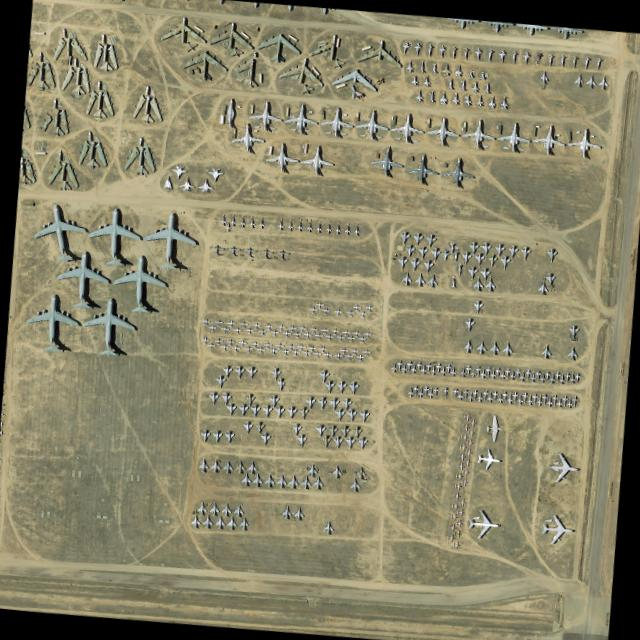plane: (26, 198, 94, 267), (80, 293, 138, 357), (142, 209, 199, 271), (54, 247, 110, 310), (86, 205, 142, 266), (112, 252, 167, 313), (25, 291, 80, 351), (326, 64, 385, 101), (274, 53, 325, 94), (206, 18, 260, 55), (180, 45, 230, 84), (119, 132, 161, 178), (157, 12, 209, 49), (75, 128, 114, 173), (253, 30, 303, 65), (354, 35, 402, 69), (130, 82, 165, 127), (58, 55, 93, 100), (228, 53, 270, 90), (36, 95, 73, 137), (52, 25, 91, 64), (83, 79, 119, 120), (45, 149, 80, 191), (87, 30, 122, 72), (27, 49, 59, 91), (530, 121, 567, 156), (460, 116, 496, 151), (404, 150, 440, 185), (369, 143, 405, 178), (354, 107, 391, 141), (319, 104, 355, 138), (566, 125, 602, 159), (496, 119, 532, 153), (389, 110, 425, 144), (540, 512, 575, 546), (264, 141, 299, 175), (440, 155, 475, 189), (229, 121, 265, 154), (425, 114, 461, 147), (248, 98, 283, 131), (467, 507, 502, 540), (299, 143, 335, 175), (547, 451, 581, 484), (284, 102, 319, 134), (217, 94, 239, 128), (475, 446, 503, 471), (486, 413, 505, 441), (197, 176, 214, 192), (170, 164, 187, 180), (178, 175, 195, 190), (208, 166, 223, 182), (208, 242, 225, 255), (475, 337, 487, 354), (424, 232, 437, 247), (484, 275, 496, 291), (422, 257, 434, 273), (196, 500, 208, 516), (585, 72, 597, 88), (460, 249, 472, 265), (429, 245, 441, 261), (507, 243, 519, 259), (540, 343, 552, 358), (466, 264, 478, 279), (426, 272, 438, 287), (414, 271, 426, 286), (242, 245, 257, 257), (493, 242, 505, 257), (537, 279, 548, 295), (502, 340, 513, 356), (489, 339, 500, 355), (409, 255, 420, 271), (233, 501, 244, 517), (210, 457, 221, 473), (276, 472, 287, 488), (300, 473, 311, 489), (162, 173, 173, 189), (499, 253, 510, 269), (520, 244, 531, 260), (226, 244, 240, 256), (222, 363, 233, 378), (567, 345, 578, 360), (568, 323, 579, 338), (464, 316, 475, 331), (472, 298, 483, 313), (401, 270, 412, 285), (397, 254, 408, 269), (323, 519, 334, 534), (293, 505, 304, 520), (281, 504, 292, 519), (226, 514, 237, 529), (221, 501, 232, 516), (215, 514, 226, 529), (209, 501, 220, 516), (202, 513, 213, 528), (190, 513, 201, 528), (198, 457, 209, 472), (234, 458, 245, 473), (240, 471, 251, 486), (200, 427, 211, 442), (220, 390, 231, 405), (252, 471, 263, 486), (264, 472, 275, 487), (288, 473, 299, 488), (307, 462, 318, 477), (313, 474, 324, 489), (349, 476, 360, 491), (355, 464, 366, 479), (296, 432, 307, 447), (258, 247, 273, 258), (598, 74, 609, 89), (474, 250, 485, 265), (468, 240, 479, 255), (399, 229, 410, 244), (546, 246, 557, 261), (260, 430, 270, 446), (416, 58, 426, 74), (533, 49, 543, 65), (416, 245, 428, 258), (270, 366, 281, 380), (246, 364, 257, 378), (234, 364, 245, 378), (215, 373, 226, 387), (473, 276, 484, 290), (336, 379, 347, 393), (348, 380, 359, 394), (208, 390, 219, 404), (244, 392, 255, 406), (286, 404, 297, 418), (305, 394, 316, 408), (341, 396, 352, 410), (351, 424, 362, 438), (344, 434, 355, 448), (339, 424, 350, 438), (327, 423, 338, 437), (275, 248, 289, 259), (486, 94, 497, 108), (441, 61, 452, 75), (412, 231, 423, 245), (486, 252, 497, 266), (324, 378, 334, 393), (545, 271, 555, 286), (480, 266, 490, 281), (223, 458, 233, 473), (247, 459, 257, 474), (243, 419, 253, 434), (332, 463, 342, 478), (315, 422, 325, 437), (573, 71, 583, 86), (483, 46, 493, 61), (425, 40, 434, 56), (225, 401, 236, 414), (346, 407, 357, 420), (332, 434, 343, 447), (319, 368, 329, 382), (269, 393, 279, 407), (212, 428, 222, 442), (250, 402, 260, 416), (262, 403, 272, 417), (274, 404, 284, 418), (298, 405, 308, 419), (329, 396, 339, 410), (335, 406, 345, 420), (359, 407, 369, 421), (224, 429, 234, 443), (405, 242, 415, 256), (481, 241, 491, 255), (464, 337, 473, 352), (458, 77, 467, 92), (238, 402, 248, 415), (254, 420, 264, 433), (358, 435, 368, 448), (400, 40, 410, 53), (317, 395, 326, 409), (292, 421, 301, 435), (439, 90, 448, 104), (415, 88, 424, 102), (427, 88, 436, 102), (449, 44, 458, 58), (509, 49, 518, 63), (540, 69, 548, 84), (582, 54, 590, 69), (461, 45, 469, 60), (322, 433, 331, 446), (475, 93, 484, 106), (470, 79, 479, 92), (451, 91, 460, 104), (593, 56, 602, 69), (482, 81, 491, 94), (277, 376, 285, 390), (240, 516, 248, 530), (500, 95, 508, 109), (569, 53, 577, 67), (557, 53, 565, 67), (545, 52, 553, 66), (413, 41, 421, 54), (474, 46, 482, 59), (454, 63, 462, 76), (522, 50, 530, 63), (462, 411, 472, 421), (441, 249, 450, 260), (464, 92, 471, 106), (430, 60, 437, 74), (405, 60, 413, 72), (498, 49, 506, 61), (446, 77, 454, 89), (438, 44, 445, 57), (423, 73, 430, 86), (411, 73, 418, 86), (364, 303, 374, 312), (335, 332, 345, 341), (302, 329, 312, 338), (518, 370, 526, 381), (405, 359, 413, 370), (548, 372, 556, 383), (529, 370, 536, 382), (531, 391, 538, 403), (352, 328, 361, 337), (286, 341, 295, 350), (282, 328, 291, 337), (461, 421, 470, 430), (451, 539, 460, 548), (448, 522, 457, 531), (456, 507, 465, 516), (461, 466, 470, 475), (341, 328, 351, 336), (301, 348, 311, 356), (330, 326, 340, 334), (319, 326, 329, 334), (207, 323, 217, 331), (320, 306, 330, 314), (287, 323, 297, 331), (276, 322, 286, 330), (251, 321, 261, 329), (454, 480, 462, 490), (238, 216, 246, 226), (496, 392, 504, 402), (451, 387, 459, 397), (390, 361, 397, 372), (396, 358, 403, 369), (220, 214, 227, 225), (224, 220, 231, 231), (258, 217, 265, 228), (277, 219, 284, 230), (287, 219, 294, 230), (296, 220, 303, 231), (325, 222, 332, 233), (334, 223, 341, 234), (344, 224, 351, 235), (353, 224, 360, 235), (400, 361, 407, 372), (479, 367, 486, 378), (489, 368, 496, 379), (482, 388, 489, 399), (486, 391, 493, 402), (494, 365, 501, 376), (504, 366, 511, 377), (509, 368, 516, 379), (517, 393, 524, 404), (514, 367, 521, 378), (410, 362, 417, 373), (412, 383, 419, 394), (417, 386, 424, 397), (422, 384, 429, 395), (427, 386, 434, 397), (435, 361, 442, 372), (439, 364, 446, 375), (442, 385, 449, 396), (445, 362, 452, 373), (449, 365, 456, 376), (457, 389, 464, 400), (459, 365, 466, 376), (465, 363, 472, 374), (526, 394, 533, 405), (539, 371, 546, 382), (536, 394, 543, 405), (546, 395, 553, 406), (551, 393, 558, 404), (558, 373, 565, 384), (556, 396, 563, 407), (566, 397, 573, 408), (571, 394, 578, 405), (564, 370, 571, 381), (574, 371, 581, 382), (307, 343, 316, 351), (312, 349, 321, 357), (318, 344, 327, 352), (323, 350, 332, 358), (334, 351, 343, 359), (350, 346, 359, 354), (355, 352, 364, 360), (363, 329, 372, 337), (297, 342, 306, 350), (357, 334, 366, 342), (358, 309, 367, 317), (346, 333, 355, 341), (346, 307, 355, 315), (333, 307, 342, 315), (291, 347, 300, 355), (200, 335, 209, 343), (206, 341, 215, 349), (214, 336, 223, 344), (226, 337, 235, 345), (231, 343, 240, 351), (238, 338, 247, 346), (244, 344, 253, 352), (250, 339, 259, 347), (256, 345, 265, 353), (263, 340, 272, 348), (275, 341, 284, 349), (281, 347, 290, 355), (325, 332, 334, 340), (214, 318, 223, 326), (220, 324, 229, 332), (314, 331, 323, 339), (315, 300, 324, 308), (309, 305, 318, 313), (309, 325, 318, 333), (298, 323, 307, 331), (292, 329, 301, 337), (270, 327, 279, 335), (245, 325, 254, 333), (239, 319, 248, 327), (233, 325, 242, 333), (460, 431, 468, 440), (466, 427, 474, 436), (468, 417, 476, 426), (459, 441, 467, 450), (464, 447, 472, 456), (450, 511, 458, 520), (453, 529, 462, 537), (447, 532, 455, 541), (457, 451, 465, 460), (452, 490, 460, 499), (460, 476, 468, 485), (525, 367, 531, 379), (522, 390, 528, 402), (570, 371, 576, 383), (339, 346, 349, 353), (315, 222, 322, 232), (499, 368, 506, 378), (476, 391, 483, 401), (420, 363, 427, 373), (425, 361, 432, 371), (462, 388, 469, 398), (535, 369, 542, 379), (544, 370, 551, 380), (554, 370, 561, 380), (485, 365, 491, 376), (472, 388, 478, 399), (502, 389, 508, 400), (512, 390, 518, 401), (475, 364, 481, 375), (407, 385, 413, 396), (542, 392, 548, 403), (562, 393, 568, 404), (455, 518, 463, 526), (451, 501, 459, 509), (458, 497, 466, 505), (455, 471, 463, 479), (457, 461, 465, 469), (463, 457, 471, 465), (344, 352, 353, 359), (352, 303, 361, 310), (220, 342, 229, 349), (269, 346, 278, 353), (201, 317, 210, 324), (264, 322, 273, 329), (258, 327, 267, 334), (227, 319, 236, 326), (466, 437, 473, 446), (432, 386, 439, 395), (249, 217, 255, 227), (230, 215, 236, 225), (306, 221, 312, 231), (492, 390, 498, 400), (507, 393, 513, 403), (430, 364, 436, 374), (362, 348, 370, 355), (467, 391, 473, 400)
